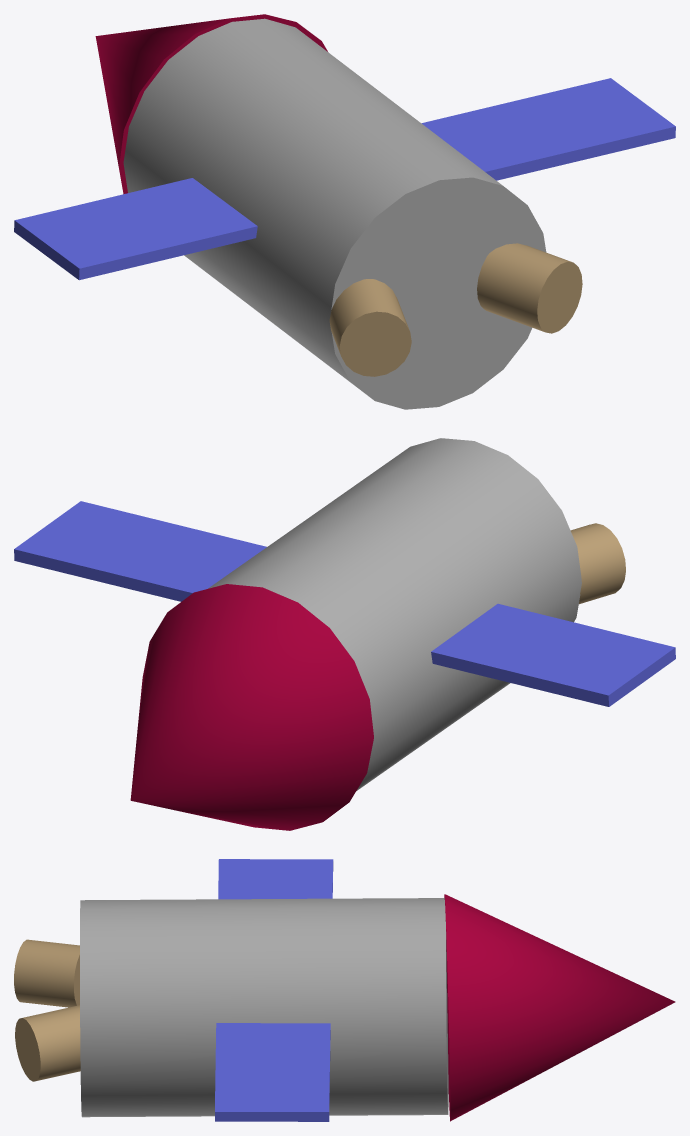
Rendered from Player.fbx.
The picture shows the model from 3 angles, top to bottom: view 1: azimuth 30°, elevation 25°; view 2: azimuth 150°, elevation 25°; view 3: azimuth 270°, elevation 25°; orthographic projection. The views are drawn at different scales.
Visible parts, largest first — view 1: pCone2; view 2: pCone2; view 3: pCone2.
Part boxes in pixels (bbox=[...]): pCone2: bbox=[14, 14, 675, 409]; pCone2: bbox=[14, 438, 675, 830]; pCone2: bbox=[14, 859, 675, 1121].
Size of the model in its own units: 5.22 by 2 by 5.79.
